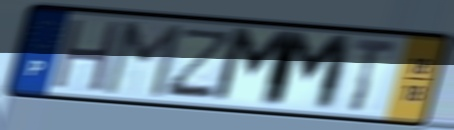H: (49, 15, 126, 95)
M: (264, 28, 356, 115), (208, 24, 300, 110), (99, 19, 187, 102)
T: (348, 36, 400, 115)
Z: (160, 26, 237, 101)
